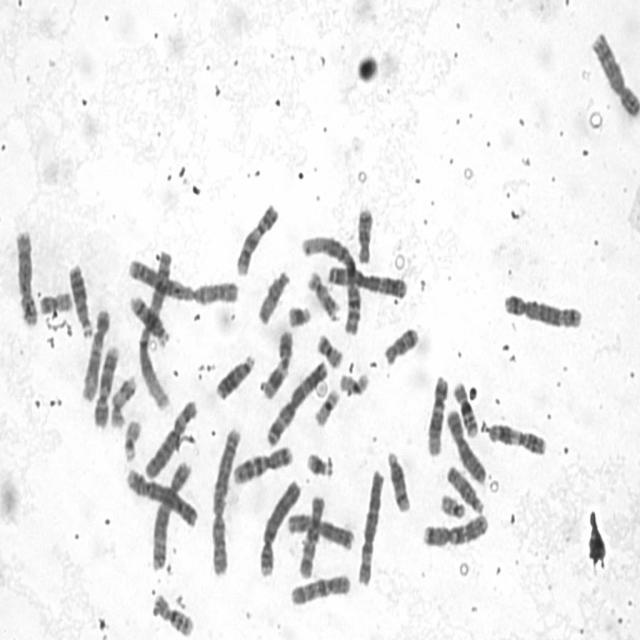A1: (134, 244, 177, 412), (298, 230, 362, 336)
A2: (124, 252, 242, 306), (207, 421, 243, 578)
A3: (262, 356, 330, 448), (324, 261, 409, 300)
B4: (122, 462, 200, 528), (256, 474, 302, 578)
B5: (148, 454, 195, 572), (500, 288, 584, 330)
C10: (296, 491, 326, 580), (288, 568, 352, 608)
C11: (257, 324, 295, 402), (483, 418, 549, 456)
C12: (78, 302, 112, 402), (424, 370, 450, 458)
C6: (142, 393, 200, 481), (354, 463, 386, 588)
C7: (230, 440, 296, 486), (420, 508, 491, 549)
C8: (589, 27, 639, 118), (11, 224, 39, 328)
C9: (233, 198, 280, 278), (90, 340, 122, 430)
D13: (65, 258, 96, 340), (212, 348, 256, 402)
D14: (126, 288, 172, 348), (384, 445, 413, 514)
D15: (443, 460, 486, 515), (254, 265, 292, 325)
E16: (148, 588, 196, 638), (450, 375, 479, 439)
E17: (304, 265, 342, 321), (108, 370, 138, 430)
E18: (381, 321, 421, 367), (354, 202, 375, 265)
F19: (311, 383, 341, 428), (337, 367, 371, 397)
F20: (314, 328, 345, 370), (37, 287, 74, 314)
G21: (303, 446, 336, 479), (284, 300, 314, 329)
G22: (121, 414, 143, 463), (438, 488, 468, 520)
X: (443, 404, 488, 486), (283, 508, 356, 552)
